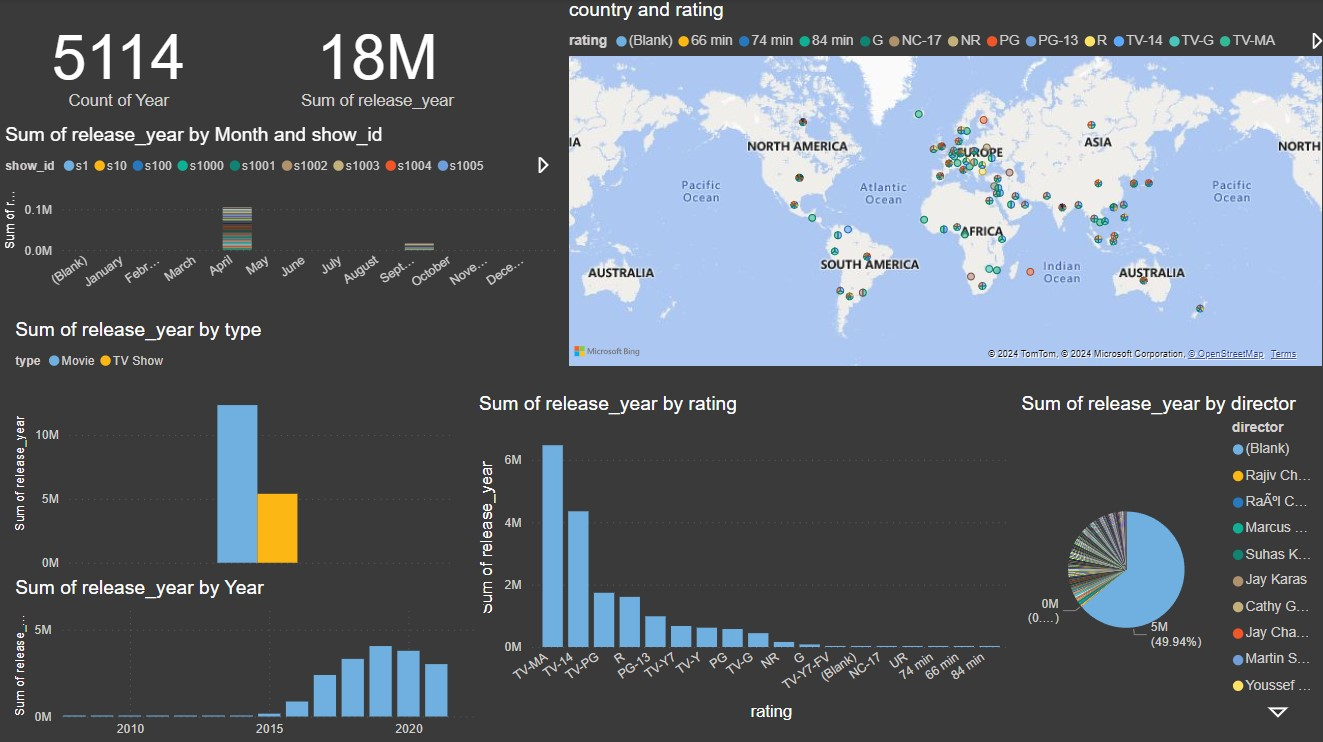

The page's visual inventory and layout, read from the dashboard file:
{"tool":"powerbi","page":{"name":"Page 1","canvas":[1280,720],"ordinal":0},"visuals":[{"type":"textbox","box":[10,290,404,280],"z":1000},{"type":"columnChart","fields":{"Category":["netflix_titles_updated.rating"],"Y":["netflix_titles_updated.release_year"]},"box":[456.9,380.1,522.8,321.1],"z":1001},{"type":"map","fields":{"Category":["netflix_titles_updated.country"],"Series":["netflix_titles_updated.rating"]},"box":[543.4,0,736.9,359.5],"z":1002},{"type":"clusteredColumnChart","fields":{"Y":["netflix_titles_updated.release_year"],"Series":["netflix_titles_updated.type"]},"box":[9.6,308.7,429.5,248.4],"z":1003},{"type":"columnChart","fields":{"Category":["netflix_titles_updated.date_added.Variation.Date Hierarchy.Year"],"Y":["netflix_titles_updated.release_year"]},"box":[9.6,557.1,456.9,163.3],"z":1004},{"type":"card","fields":{"Values":["netflix_titles_updated.date_added.Variation.Date Hierarchy.Year"]},"box":[0,0,229.1,120.6],"z":1005},{"type":"card","fields":{"Values":["netflix_titles_updated.release_year"]},"box":[237.6,0,253.3,120.6],"z":1006},{"type":"columnChart","fields":{"Category":["netflix_titles_updated.date_added.Variation.Date Hierarchy.Month"],"Y":["netflix_titles_updated.release_year"],"Series":["netflix_titles_updated.show_id"]},"box":[0,120.8,543.4,168.8],"z":1007},{"type":"pieChart","fields":{"Category":["netflix_titles_updated.director"],"Y":["netflix_titles_updated.release_year"]},"box":[980,380,300,321],"z":1008}]}

Visuals, with their boxes in screenshot pixels (x1, y1, x2, y2), scaled from the page's 1280x720 canvas onto the 1323x742 screenshot:
textbox: x1=10 y1=299 x2=428 y2=587
columnChart - netflix_titles_updated.rating x netflix_titles_updated.release_year: x1=472 y1=392 x2=1013 y2=723
map - netflix_titles_updated.country x netflix_titles_updated.rating: x1=562 y1=0 x2=1322 y2=370
clusteredColumnChart - netflix_titles_updated.release_year x netflix_titles_updated.type: x1=10 y1=318 x2=454 y2=574
columnChart - netflix_titles_updated.date_added.Variation.Date Hierarchy.Year x netflix_titles_updated.release_year: x1=10 y1=574 x2=482 y2=741
card - netflix_titles_updated.date_added.Variation.Date Hierarchy.Year: x1=0 y1=0 x2=237 y2=124
card - netflix_titles_updated.release_year: x1=246 y1=0 x2=507 y2=124
columnChart - netflix_titles_updated.date_added.Variation.Date Hierarchy.Month x netflix_titles_updated.release_year: x1=0 y1=124 x2=562 y2=298
pieChart - netflix_titles_updated.director x netflix_titles_updated.release_year: x1=1013 y1=392 x2=1322 y2=722
